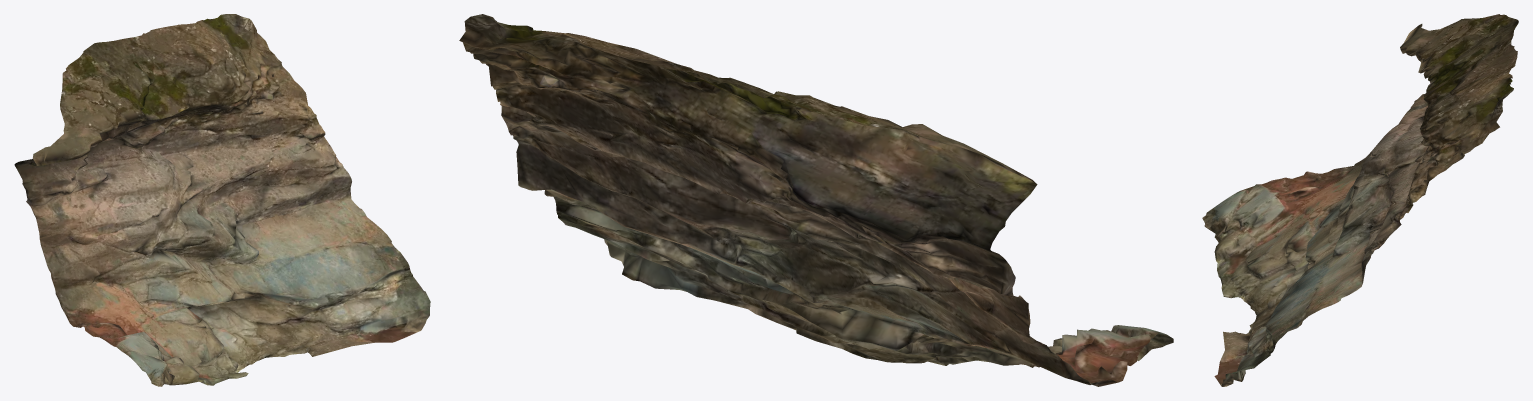
File: rock_face_01.glb
3 views of the same model, side by side, from view 1: azimuth 30°, elevation 25°; view 2: azimuth 150°, elevation 25°; view 3: azimuth 270°, elevation 25° (orthographic). The views are drawn at different scales.
Visible parts, largest first — view 1: rock_face_01; view 2: rock_face_01; view 3: rock_face_01.
Boxes of the visible parts, x1,y1,x2,y2 form: rock_face_01: (14,14,430,386); rock_face_01: (459,14,1173,386); rock_face_01: (1202,14,1518,386).
Bounding box in the file's own units: 4.95 × 3.56 × 3.82.
Materials: 1 (1 with a texture image).
